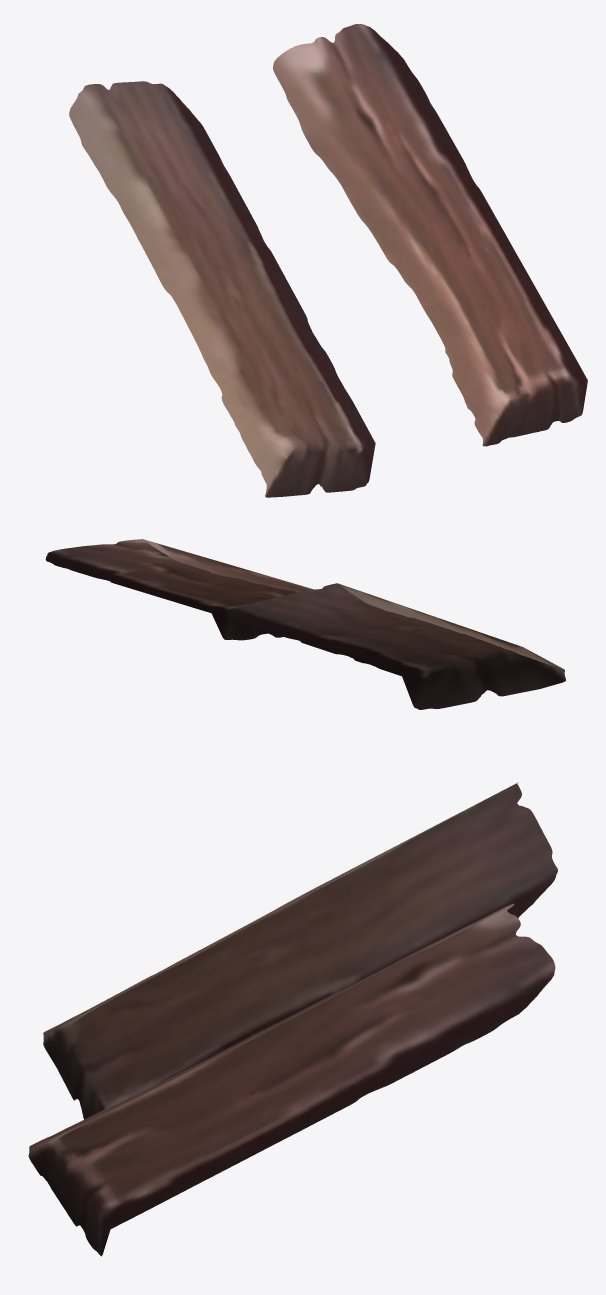
Rendered from Hanging Bridge Boards.FBX.
3 renders of one model, top to bottom at view 1: azimuth 30°, elevation 25°; view 2: azimuth 150°, elevation 25°; view 3: azimuth 270°, elevation 25°, orthographic. The views are drawn at different scales.
Parts seen in each view (by area): view 1: Board 2, Board 1; view 2: Board 1, Board 2; view 3: Board 2, Board 1.
Boxes of the visible parts, bbox=[...] form: Board 2: bbox=[273, 24, 587, 446]; Board 1: bbox=[69, 81, 375, 497]; Board 1: bbox=[233, 583, 565, 709]; Board 2: bbox=[45, 539, 313, 640]; Board 2: bbox=[28, 903, 555, 1256]; Board 1: bbox=[43, 782, 557, 1119].
Bounding box in the file's own units: 142 × 166 × 113.
